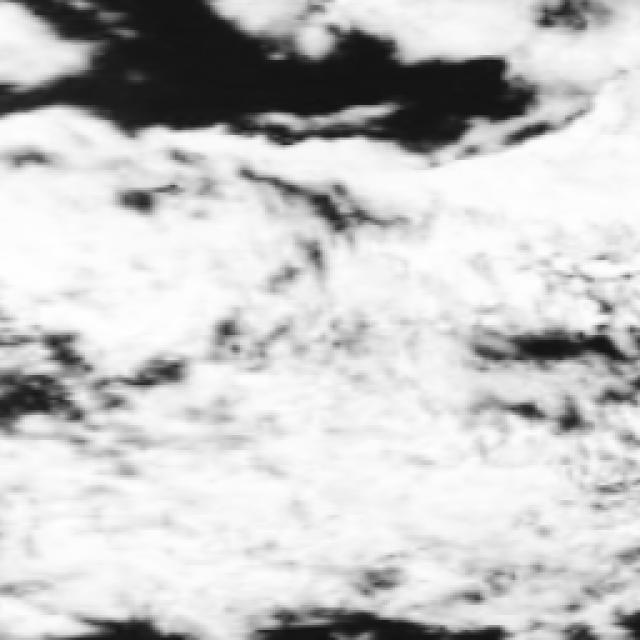CB: (97, 428, 295, 570), (307, 393, 448, 563), (442, 181, 640, 264), (6, 174, 121, 310)
